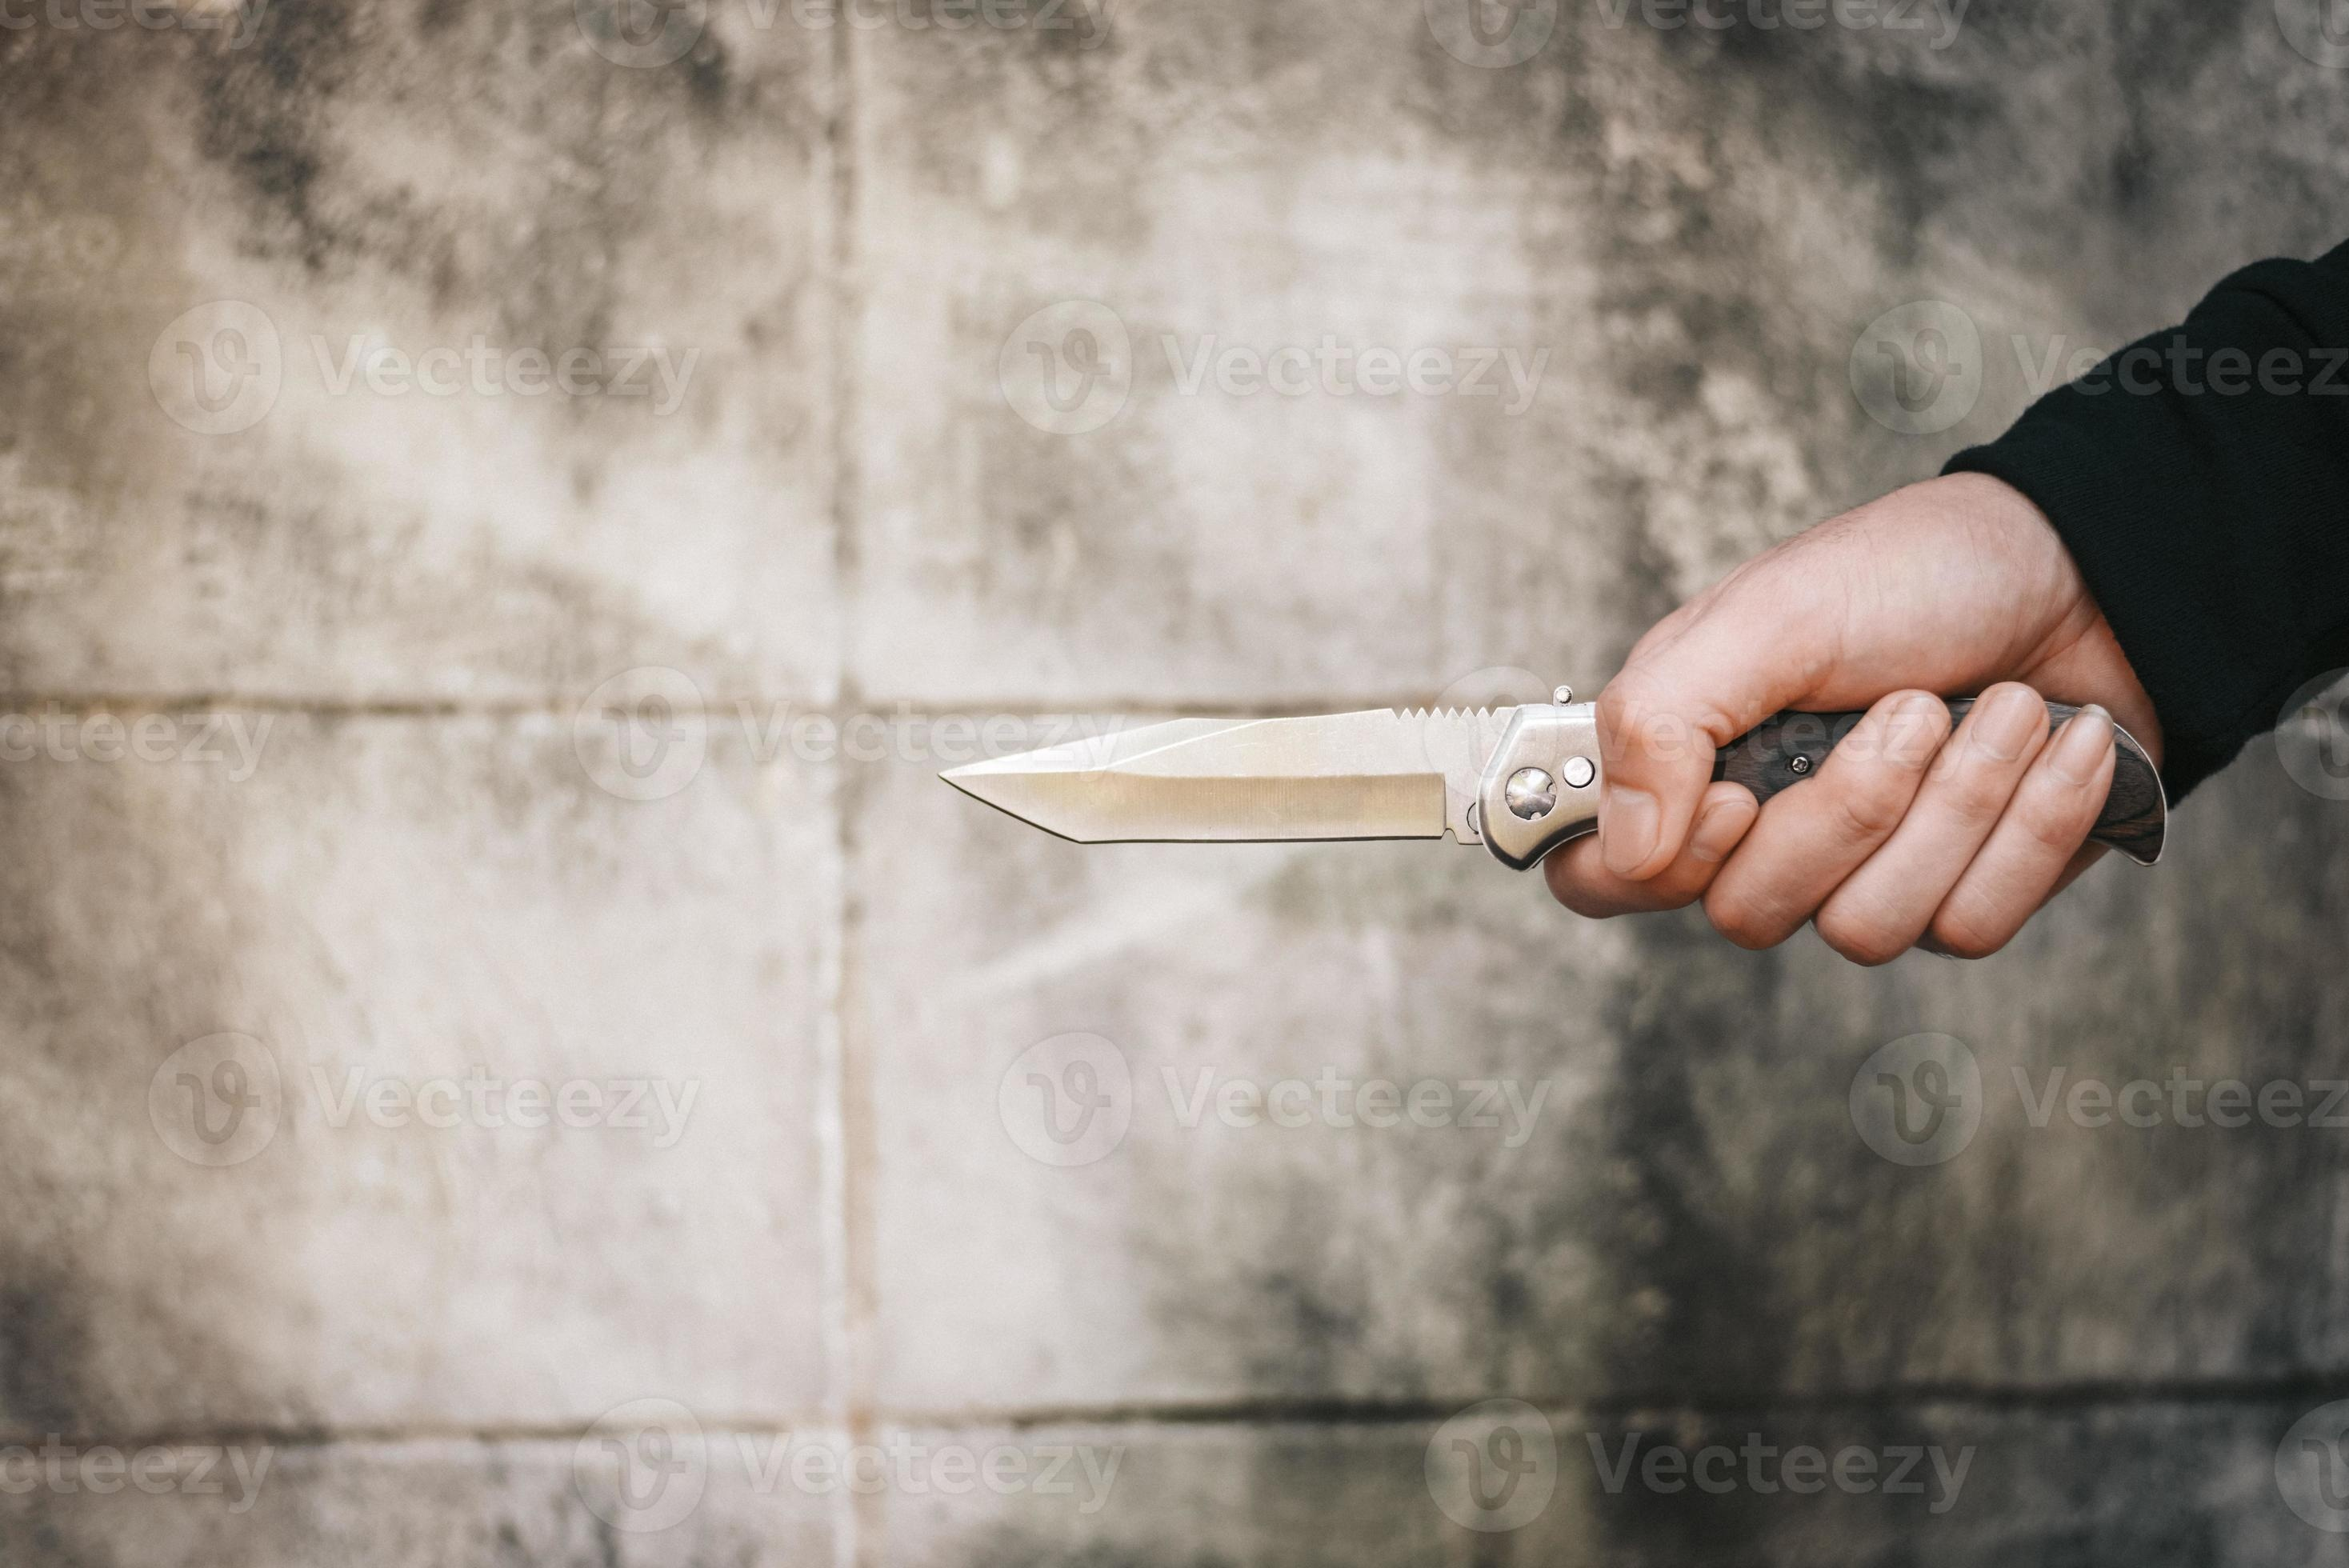knife: (935, 684, 2169, 875)
